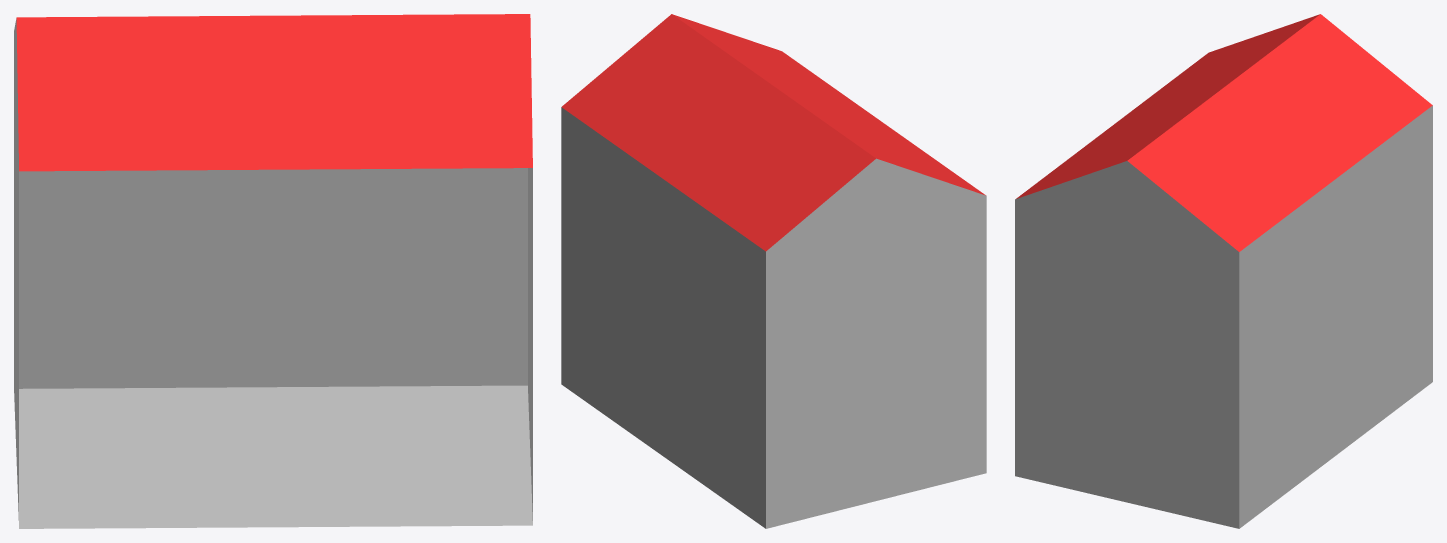
File: pb-9635c100-7f36-11f0-9aef-9c7bef4dcf4c.dae
3 views of the same model, side by side, from view 1: azimuth 30°, elevation 25°; view 2: azimuth 150°, elevation 25°; view 3: azimuth 270°, elevation 25° (orthographic). The views are drawn at different scales.
Size of the model in its own units: 18.41 by 16.28 by 14.69.
